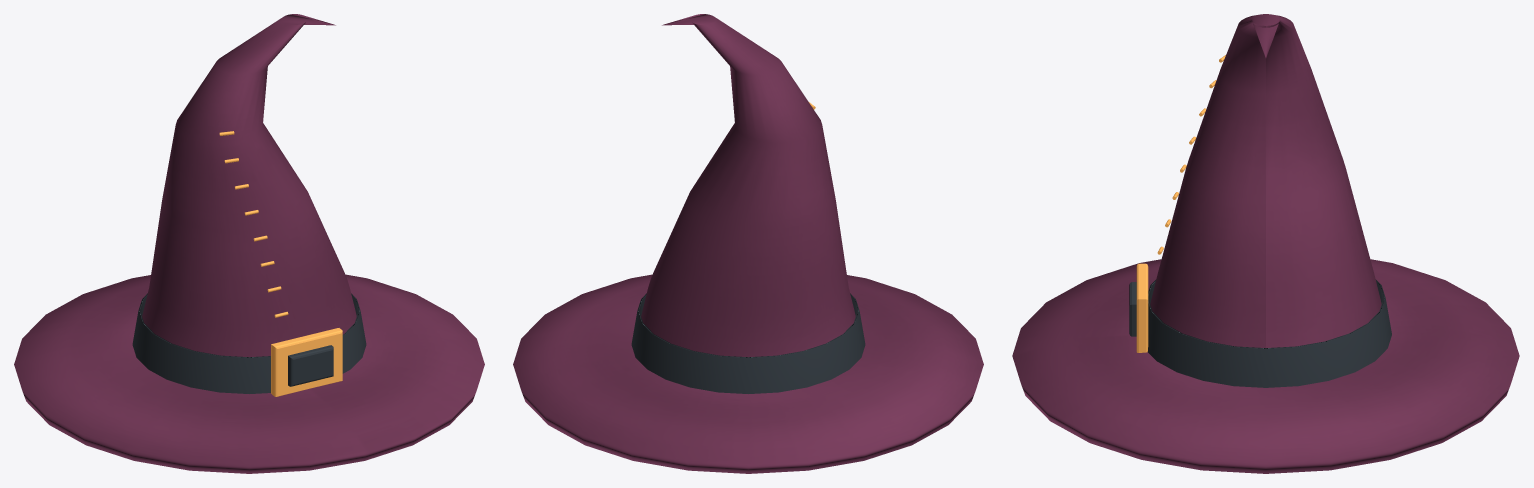
Rendered from hollowwick-halloween-crooked-witch-hat-76899191__21611.glb.
The picture shows the model from 3 angles, left to right: view 1: azimuth 30°, elevation 25°; view 2: azimuth 150°, elevation 25°; view 3: azimuth 270°, elevation 25°; orthographic projection. The views are drawn at different scales.
Parts seen in each view (by area): view 1: crooked-witch-hat; view 2: crooked-witch-hat; view 3: crooked-witch-hat.
Boxes of the visible parts, bbox=[...] form: crooked-witch-hat: bbox=[14, 14, 484, 473]; crooked-witch-hat: bbox=[513, 14, 983, 473]; crooked-witch-hat: bbox=[1012, 14, 1519, 473].
Size of the model in its own units: 1.08 by 0.9101 by 1.08.
3 materials, 1 textured.
